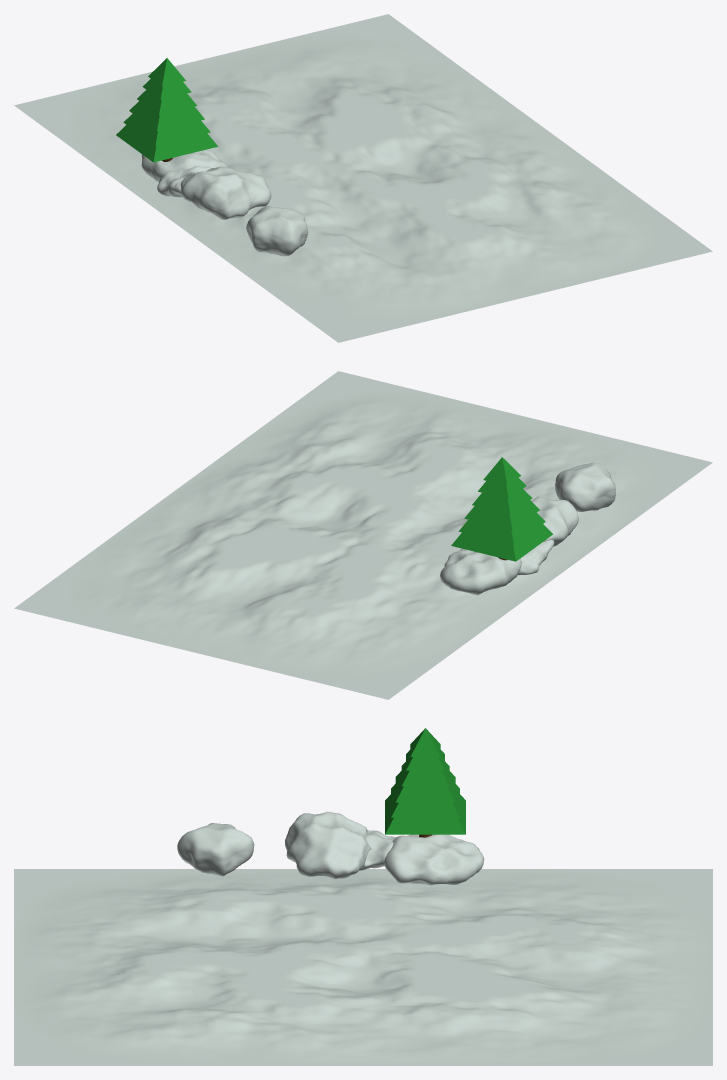
The model's file is aset winter FIX.fbx.
3 renders of one model, top to bottom at view 1: azimuth 30°, elevation 25°; view 2: azimuth 150°, elevation 25°; view 3: azimuth 270°, elevation 25°, orthographic. The views are drawn at different scales.
Visible parts, largest first — view 1: Landscape.008, Landscape.001, Landscape.003, Landscape.007, Landscape.004, Landscape.006; view 2: Landscape.008, Landscape.001, Landscape.004, Landscape.007, Landscape.003, Landscape.006; view 3: Landscape.008, Landscape.001, Landscape.003, Landscape.004, Landscape.007, Landscape.006.
Part boxes in pixels (<box>): Landscape.008: <box>14,14,712,342</box>; Landscape.001: <box>116,58,217,162</box>; Landscape.003: <box>180,166,271,219</box>; Landscape.007: <box>246,206,308,256</box>; Landscape.004: <box>141,149,229,182</box>; Landscape.006: <box>157,166,210,197</box>; Landscape.008: <box>14,371,712,699</box>; Landscape.001: <box>451,457,553,561</box>; Landscape.004: <box>440,548,521,595</box>; Landscape.007: <box>554,462,615,511</box>; Landscape.003: <box>531,496,578,546</box>; Landscape.006: <box>517,540,554,575</box>; Landscape.008: <box>14,869,712,1065</box>; Landscape.001: <box>385,728,465,837</box>; Landscape.003: <box>285,811,371,878</box>; Landscape.004: <box>384,834,484,885</box>; Landscape.007: <box>177,823,254,876</box>; Landscape.006: <box>359,830,396,870</box>.
Bounding box in the file's own units: 620 × 215 × 900.
